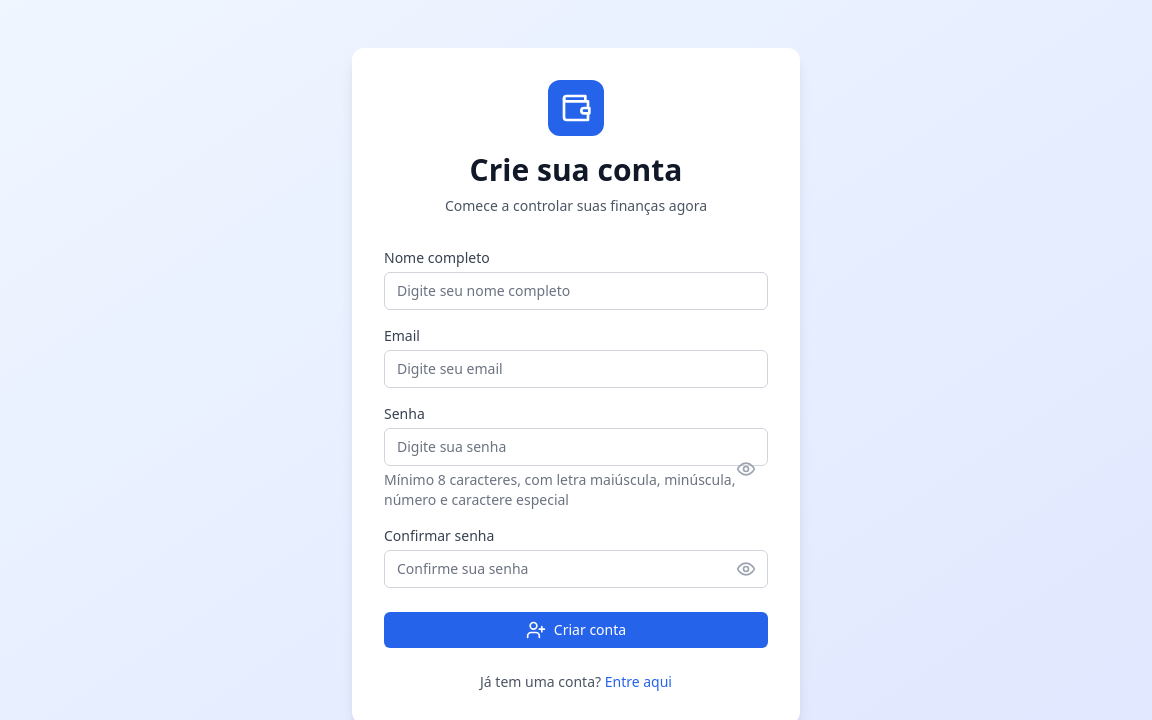
Scenario: RegisterPage › validates password confirmation
Step 1. Type "João Silva" into the field labelled "Nome completo" → [576, 291], box [384,272,768,310]
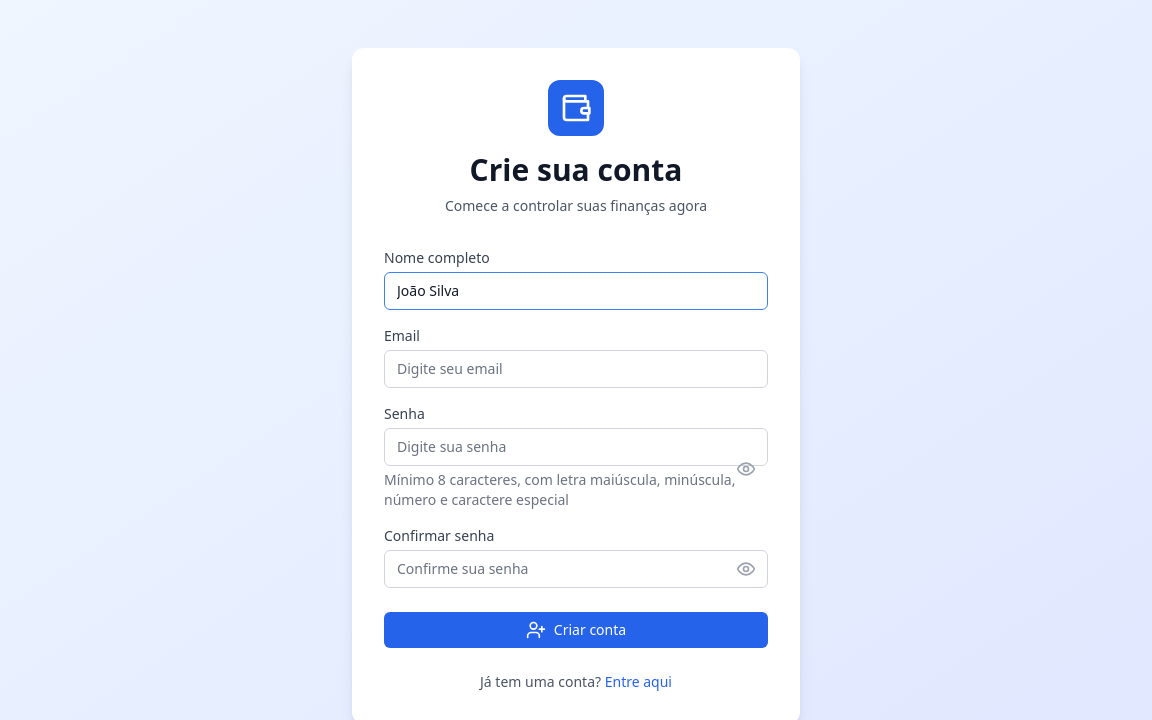
Step 2. Type "joao@example.com" into the field labelled "Email" → [576, 369], box [384,350,768,388]
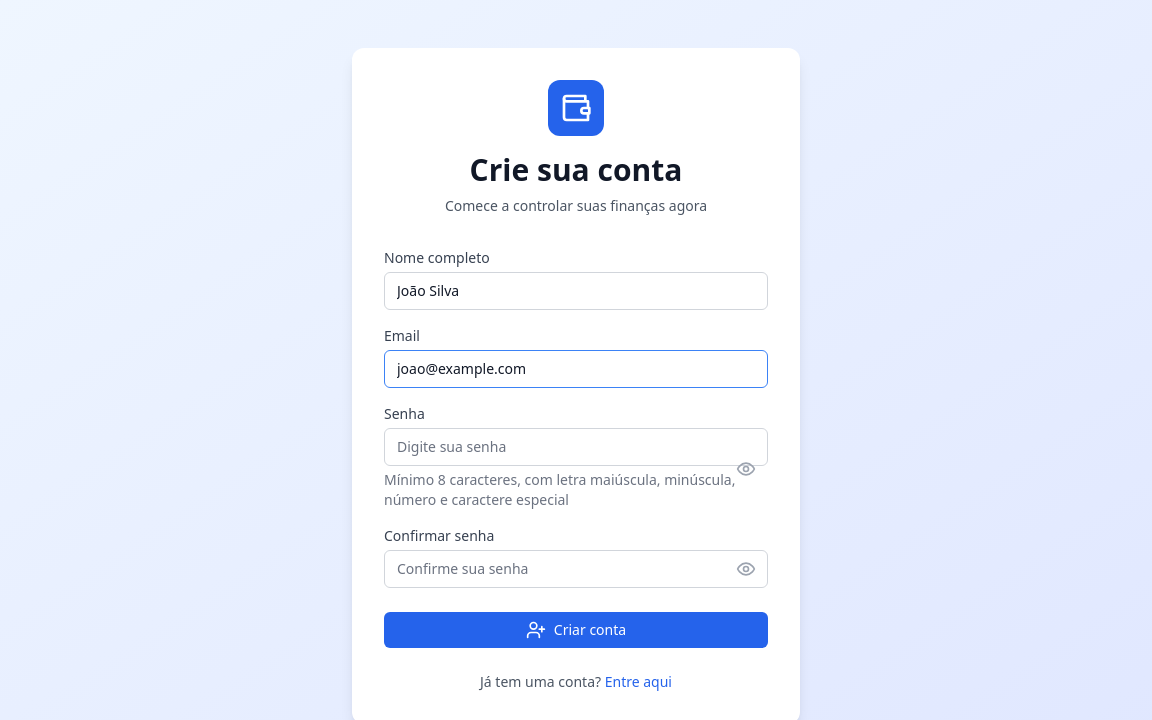
Step 3. Type "Password123!" into the password field labelled "Senha" → [576, 447], box [384,428,768,466]
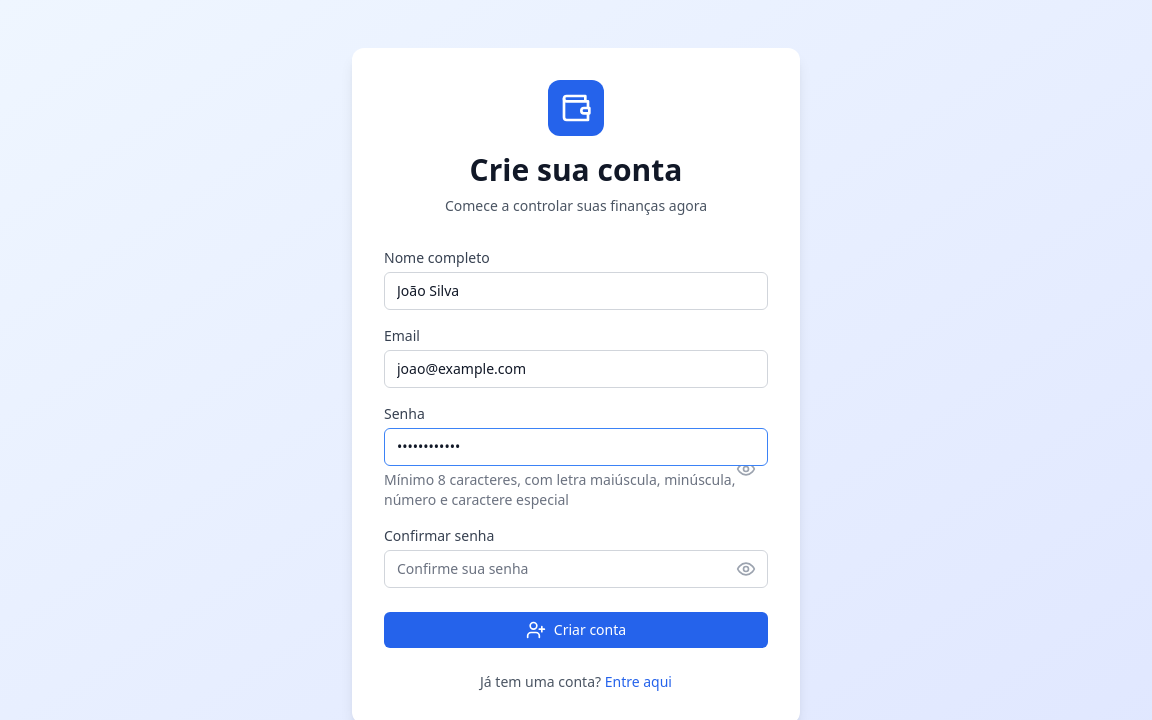
Step 4. Type "DifferentPassword123!" into the password field labelled "Confirmar senha" → [576, 569], box [384,550,768,588]
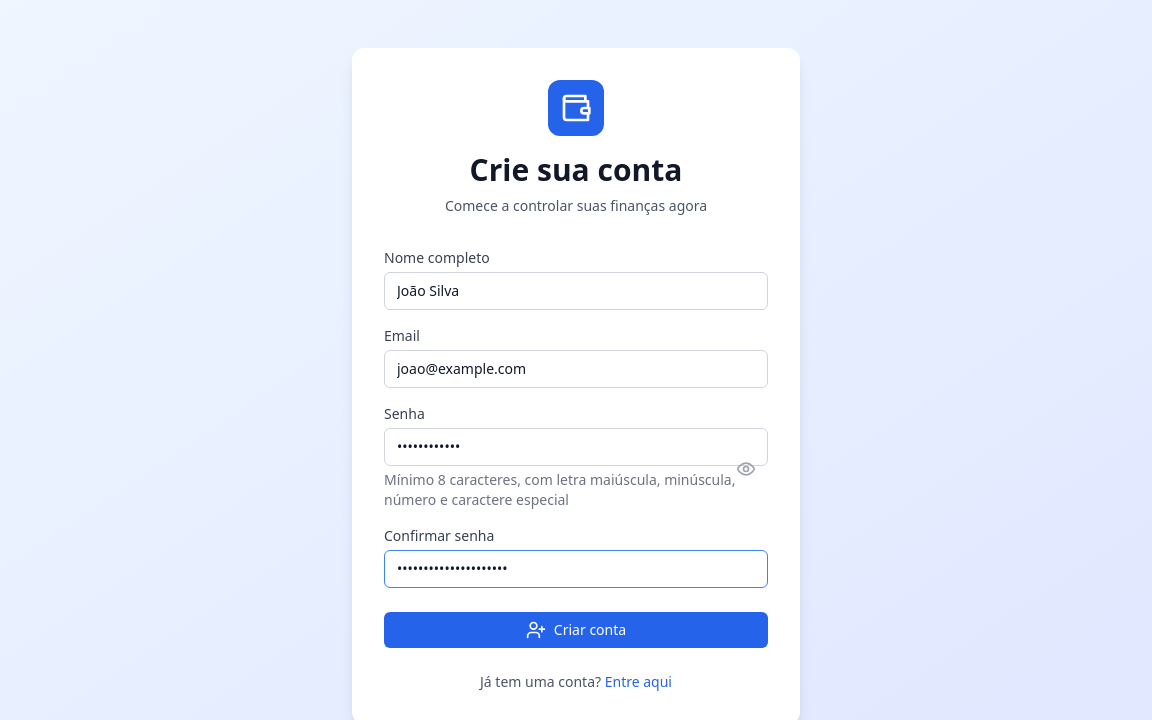
Step 5. Click the button "Criar conta" → [576, 630], box [384,612,768,648]
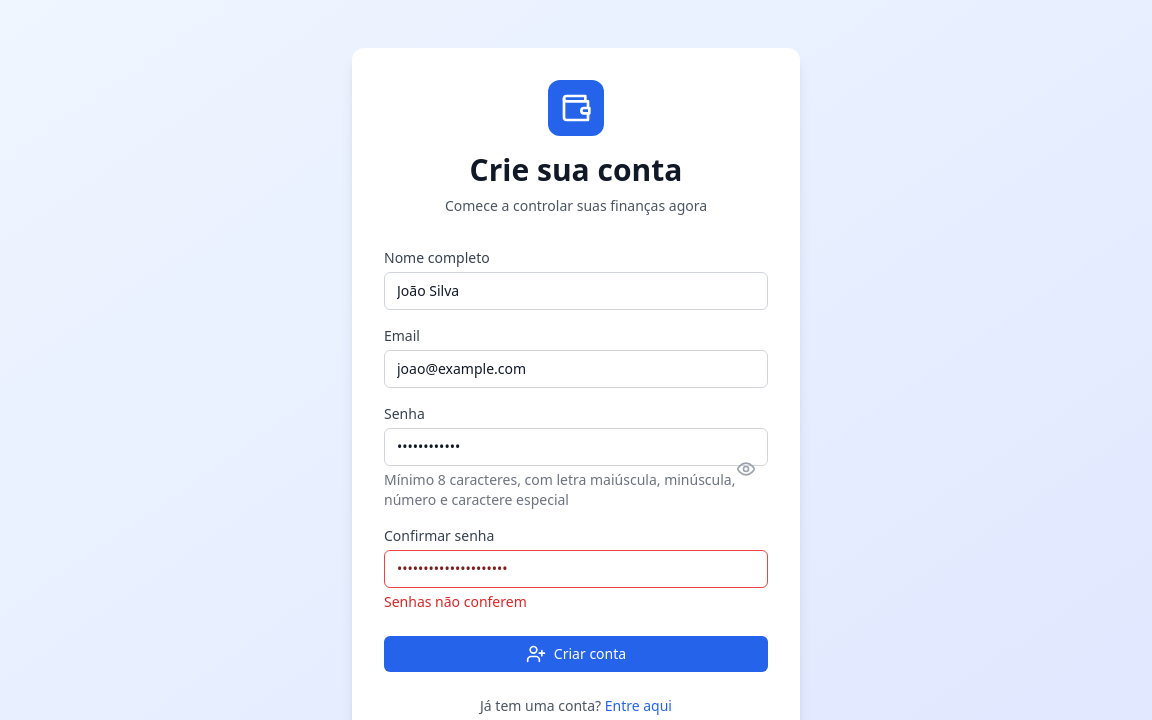
Expected: the text "Senhas não conferem" is shown, [384,592,527,611]
